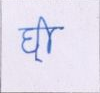i_matra: (39, 17, 56, 54)
